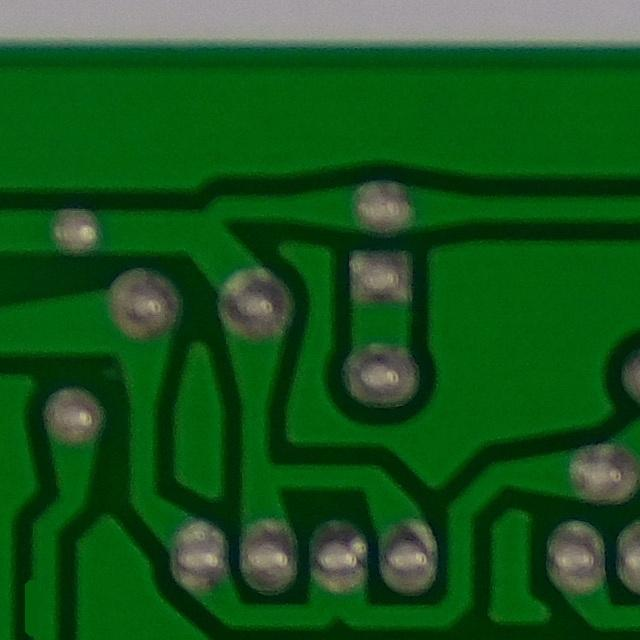spur: (12, 558, 66, 640)
